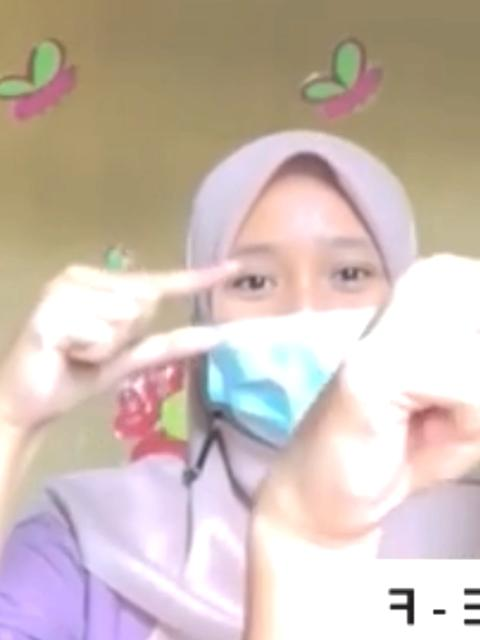G: (0, 254, 246, 426)
